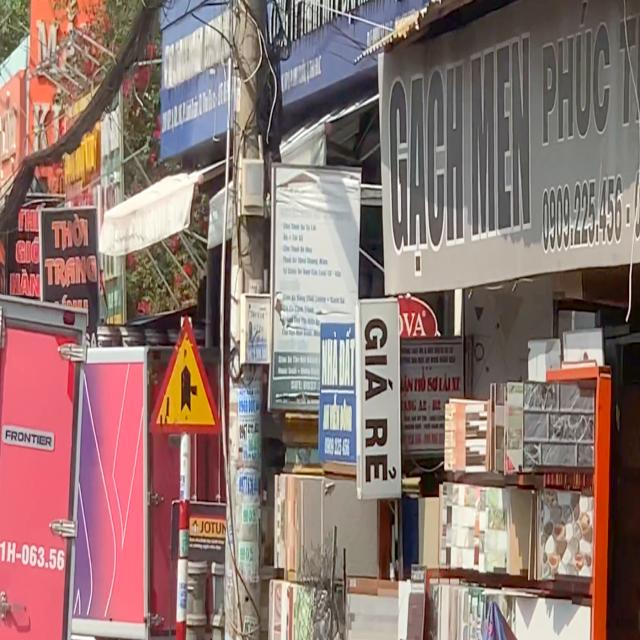Giao voi duong khong uu tien: (148, 313, 222, 436)
